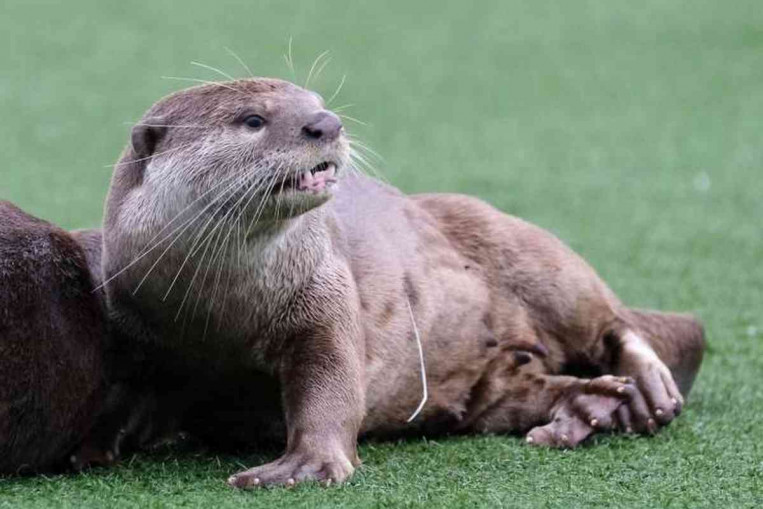otter: (89, 64, 730, 499)
